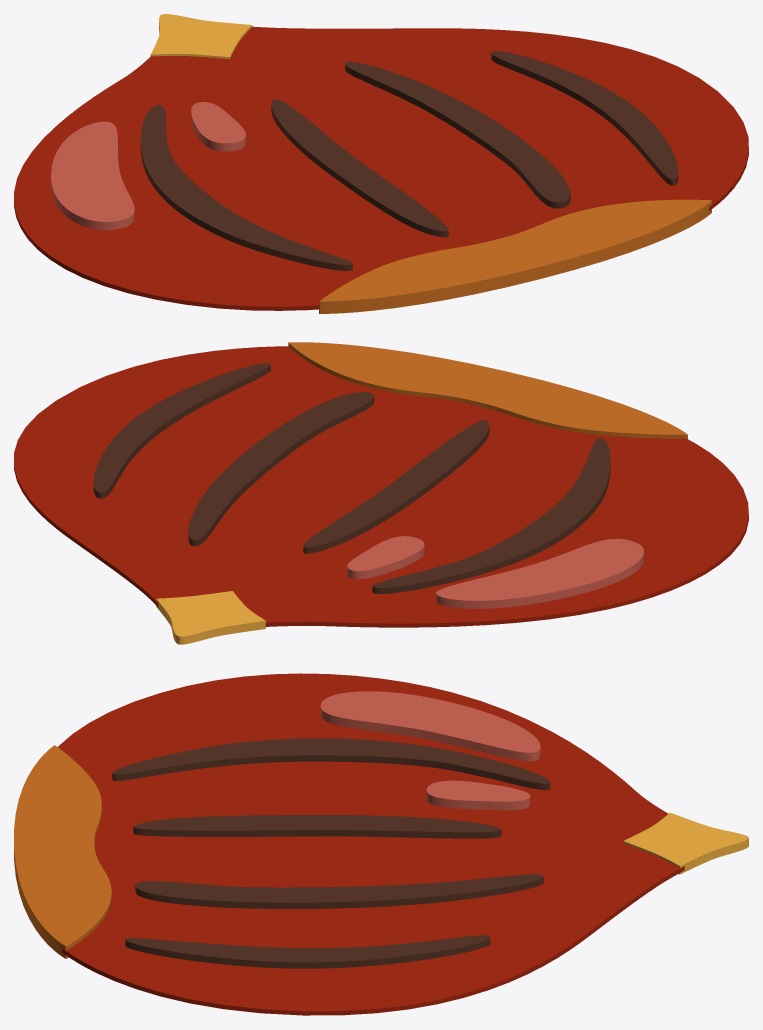
Rendered from emoji_u1f330.glb.
The picture shows the model from 3 angles, top to bottom: view 1: azimuth 30°, elevation 25°; view 2: azimuth 150°, elevation 25°; view 3: azimuth 270°, elevation 25°; orthographic projection. The views are drawn at different scales.
Parts seen in each view (by area): view 1: emoji_u1f330; view 2: emoji_u1f330; view 3: emoji_u1f330.
Boxes of the visible parts, bbox=[...] form: emoji_u1f330: bbox=[14, 14, 748, 313]; emoji_u1f330: bbox=[14, 342, 748, 644]; emoji_u1f330: bbox=[14, 673, 748, 1015].
Bounding box in the file's own units: 0.0341 × 0.001 × 0.0313.
